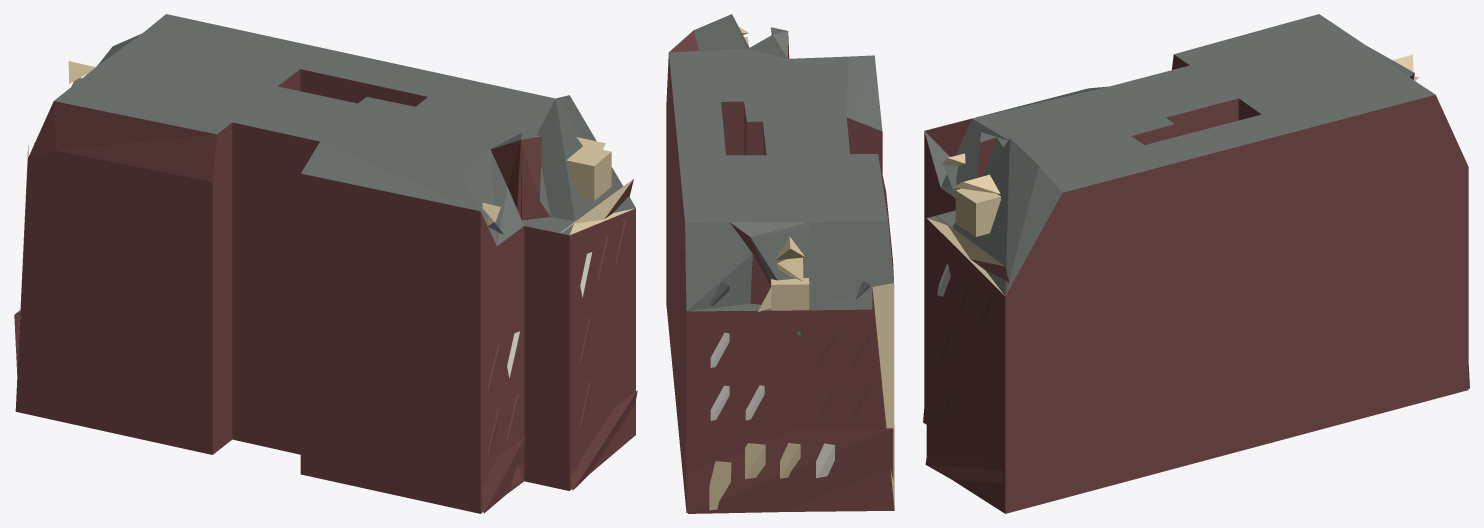
The model's file is nieuwe-doelenstraat-12.lod2.glb.
3 views of the same model, side by side, from view 1: azimuth 30°, elevation 25°; view 2: azimuth 150°, elevation 25°; view 3: azimuth 270°, elevation 25° (orthographic). The views are drawn at different scales.
Parts seen in each view (by area): view 1: lod2; view 2: lod2; view 3: lod2.
Boxes of the visible parts, left/top/right/bottom form: lod2: left=14, top=14, right=637, bottom=513; lod2: left=666, top=14, right=894, bottom=513; lod2: left=923, top=14, right=1469, bottom=513.
Bounding box in the file's own units: 30.32 × 23.21 × 33.87.
